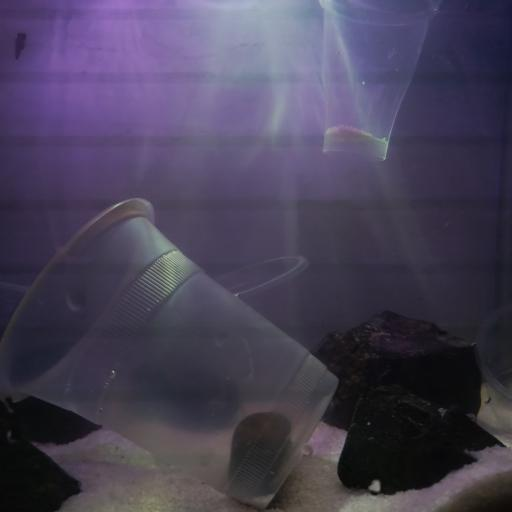plastic_cup: (2, 196, 341, 510), (315, 0, 437, 164), (193, 249, 308, 348), (474, 293, 512, 462)
